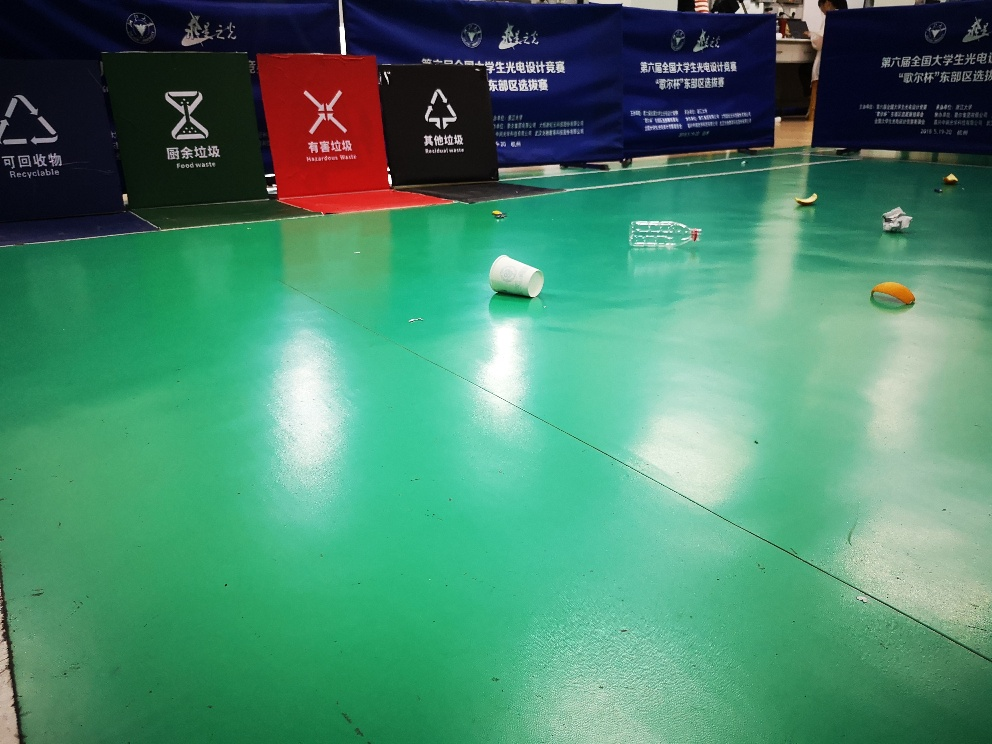battery: (929, 184, 948, 197)
bottle: (624, 216, 703, 253)
orangepeel: (867, 279, 916, 309), (938, 169, 964, 187), (791, 191, 820, 207)
papercup: (486, 253, 547, 303)
spitball: (878, 207, 916, 238)
